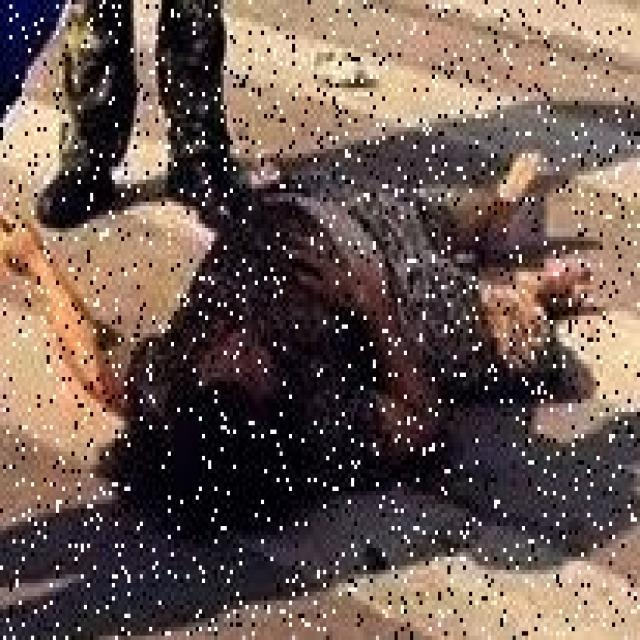fall: (130, 144, 572, 544)
